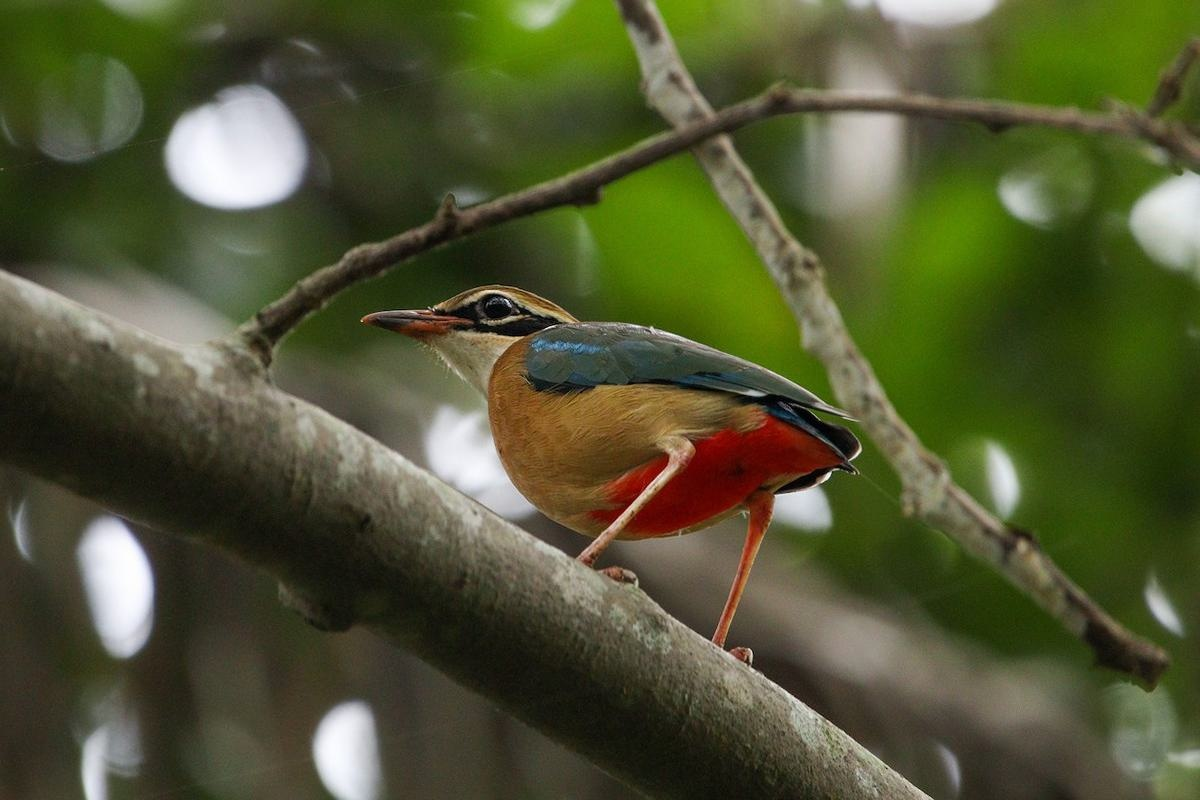pitta: (375, 258, 840, 680)
